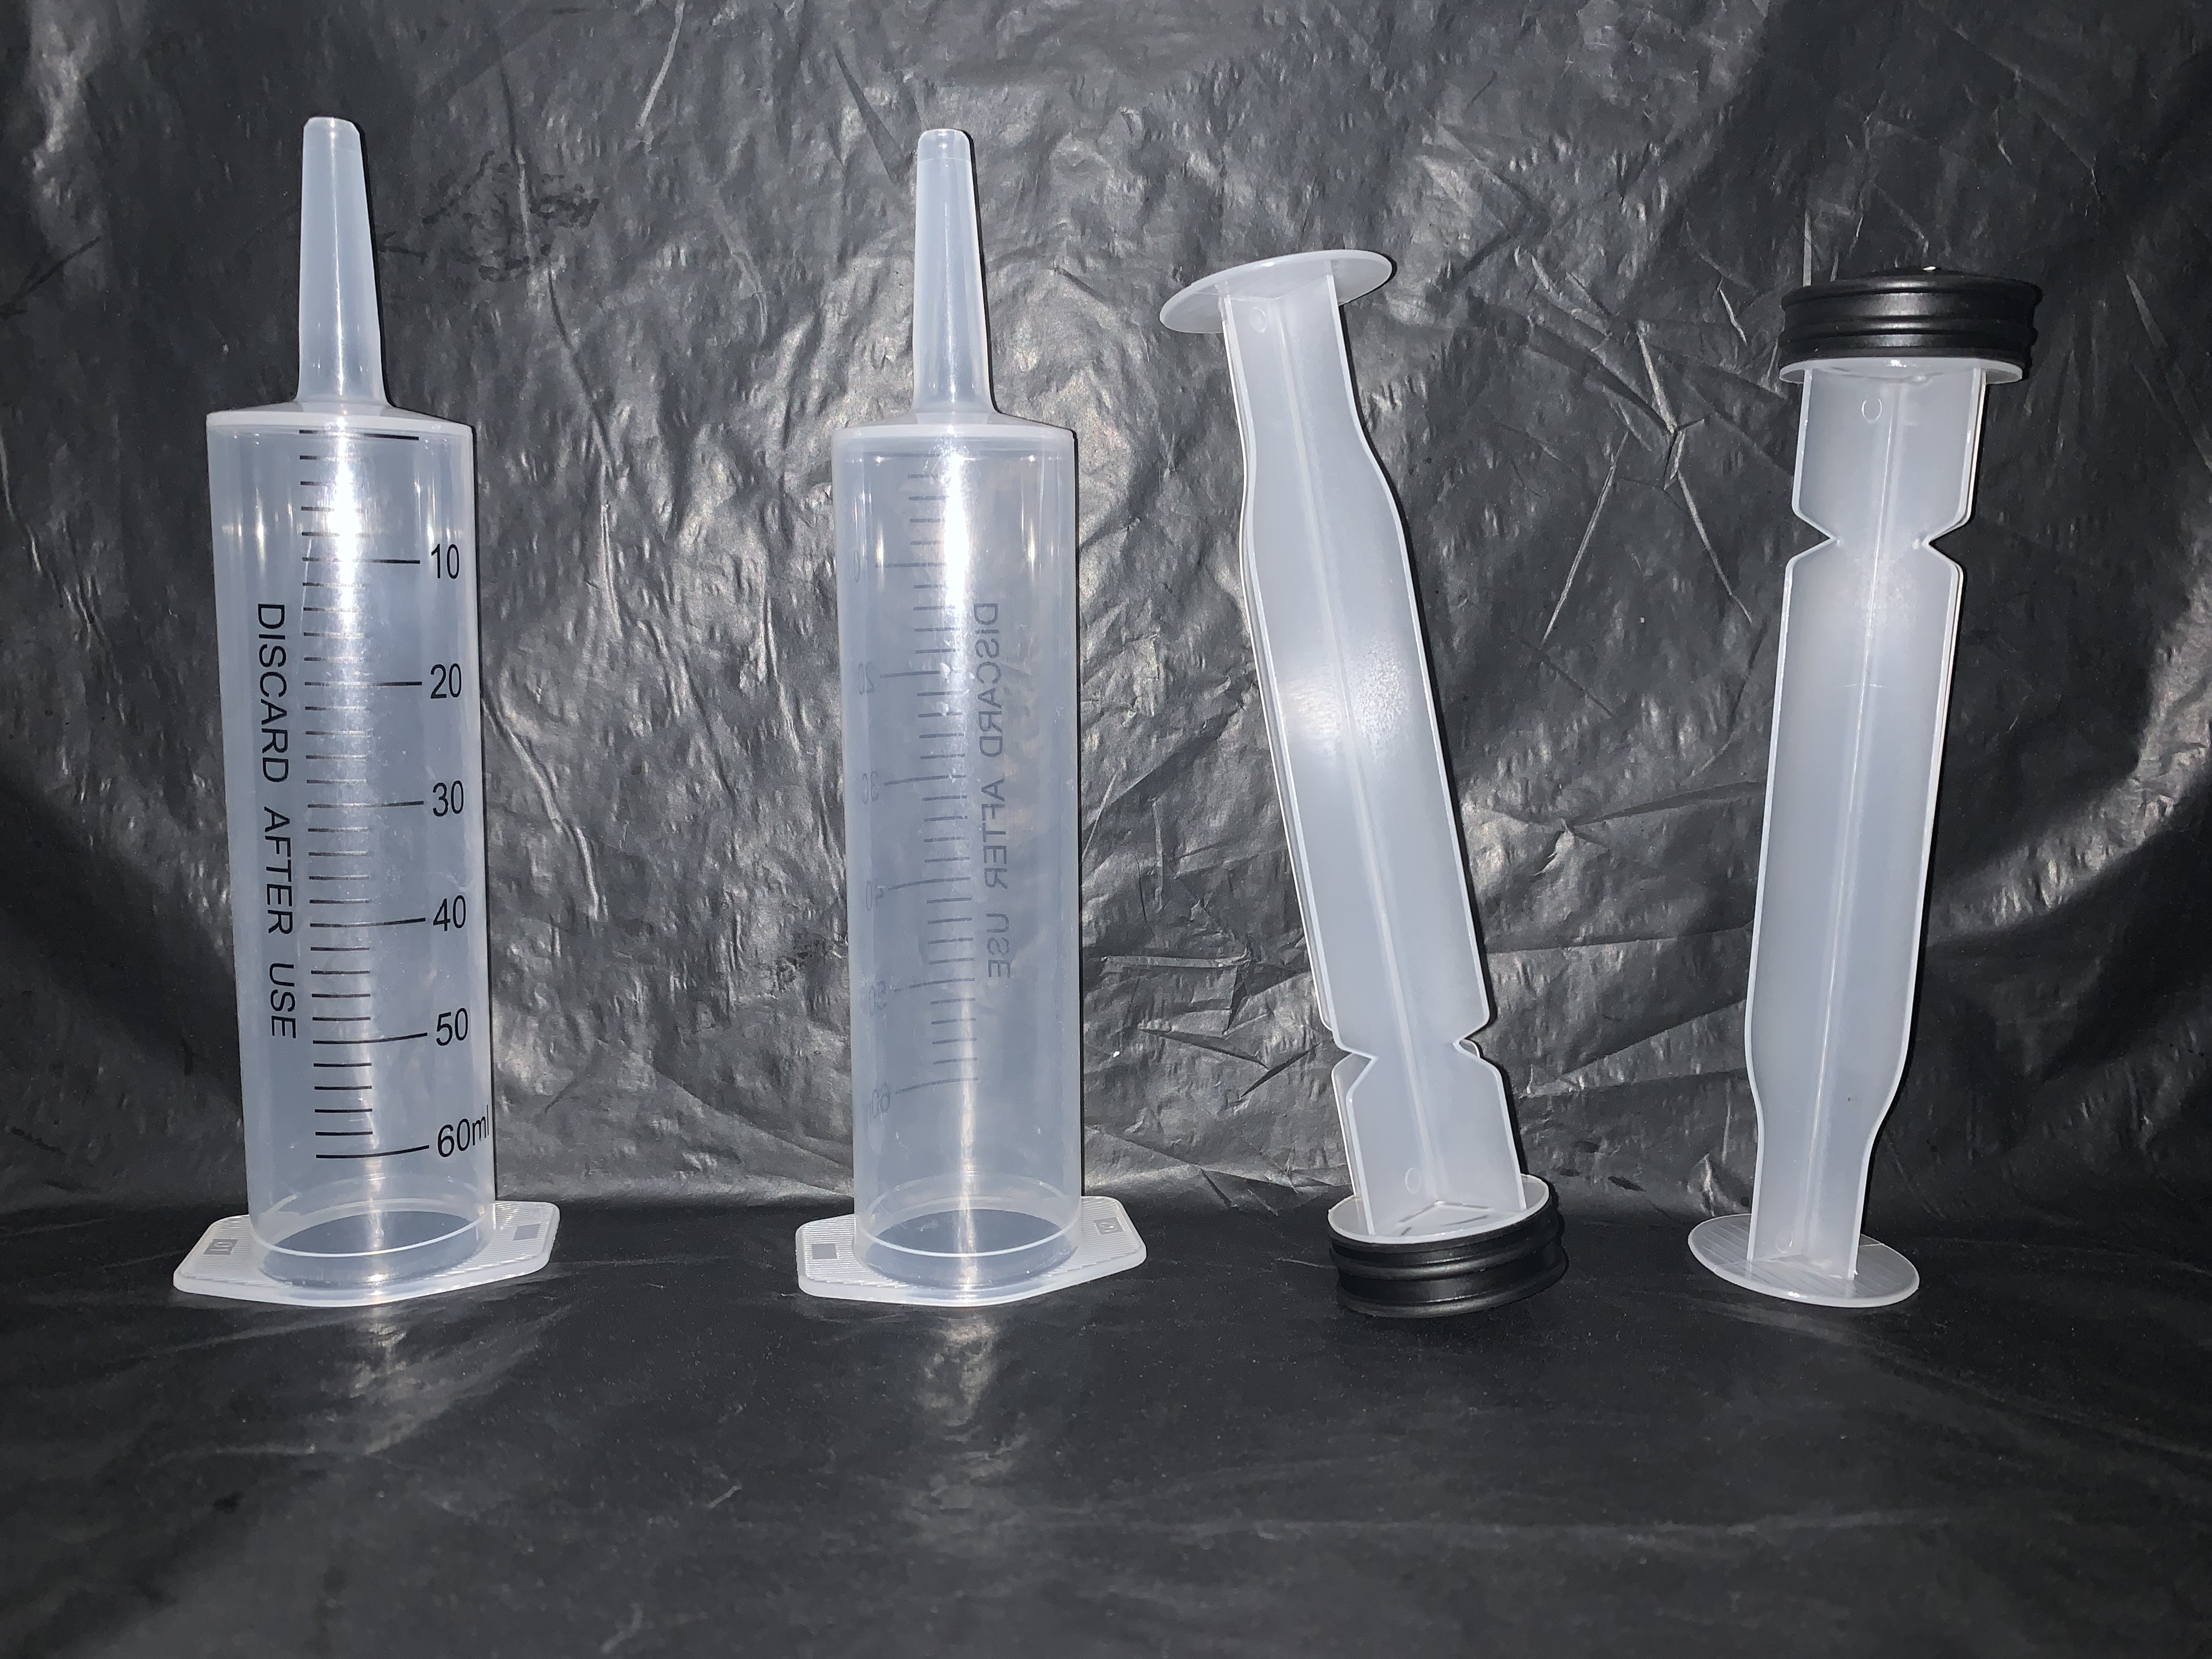plunger: (1150, 235, 1575, 1328), (1679, 265, 2057, 1307)
syringe: (167, 106, 570, 1314), (791, 120, 1157, 1310)
